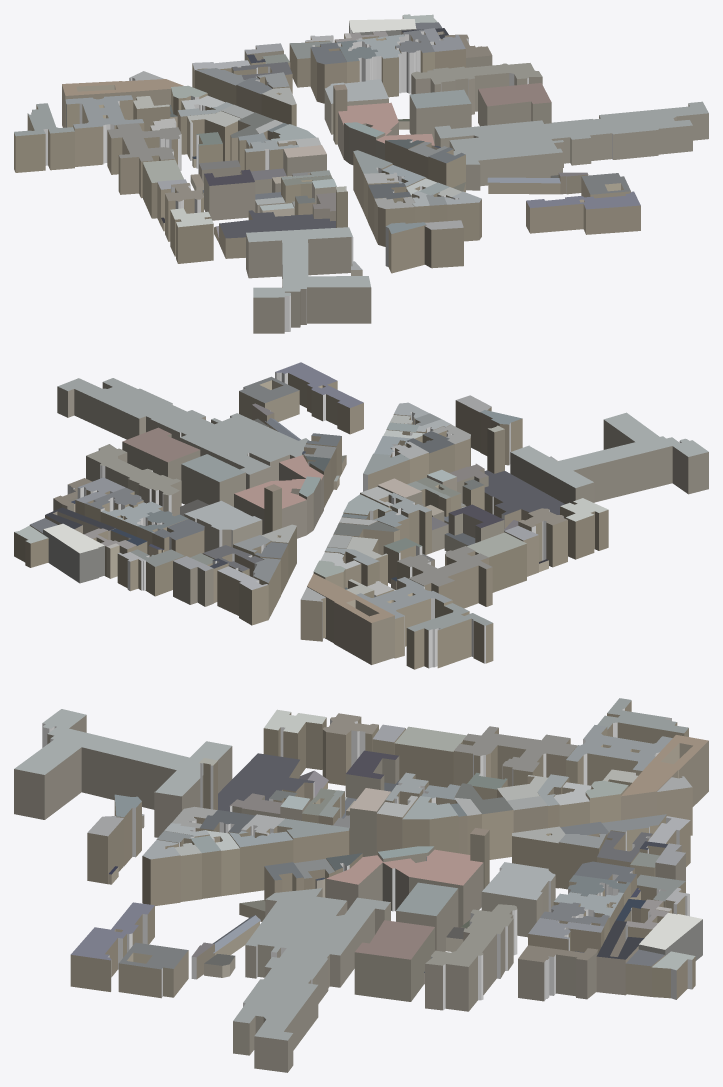
3 renders of one model, top to bottom at view 1: azimuth 30°, elevation 25°; view 2: azimuth 150°, elevation 25°; view 3: azimuth 270°, elevation 25°, orthographic. The views are drawn at different scales.
Parts seen in each view (by area): view 1: tuile; view 2: tuile; view 3: tuile.
Part boxes in pixels (<box>): tuile: <box>14,14,708,333</box>; tuile: <box>14,362,708,669</box>; tuile: <box>14,698,708,1072</box>.
Size of the model in its own units: 345 by 38.91 by 300.
